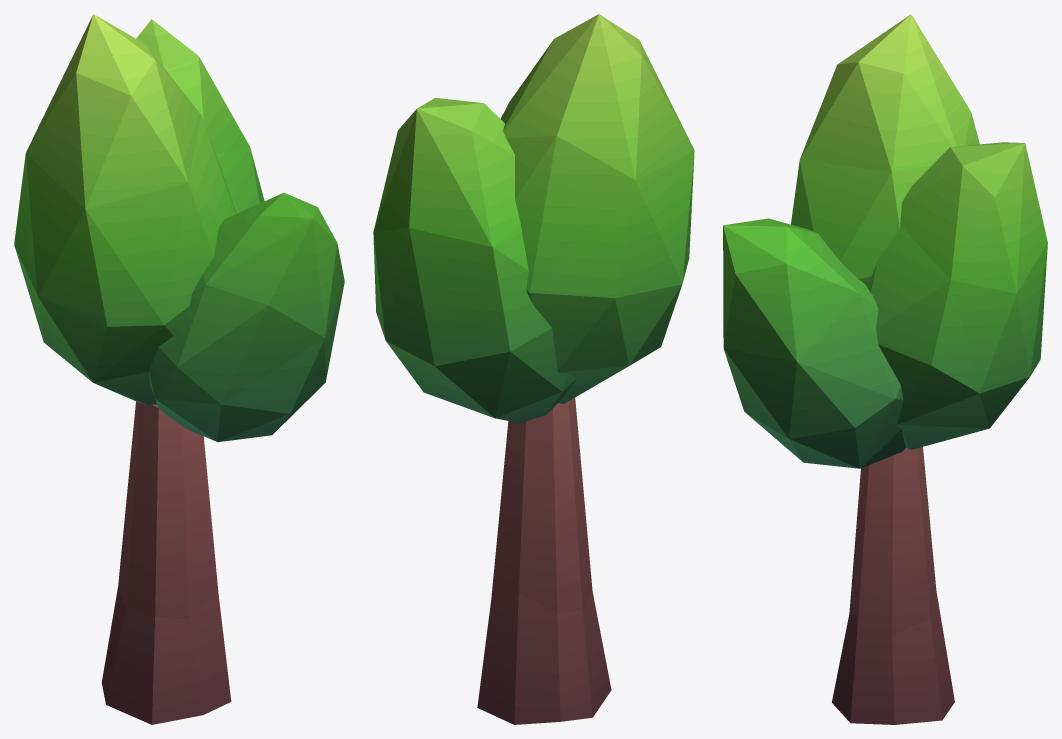
Rendered from Green_F.glb.
3 renders of one model, left to right at view 1: azimuth 30°, elevation 25°; view 2: azimuth 150°, elevation 25°; view 3: azimuth 270°, elevation 25°, orthographic. The views are drawn at different scales.
Parts seen in each view (by area): view 1: Green_Leaves1_K, Green_Leaves3_K, Green_Trunk_K, Green_Leaves2_K; view 2: Green_Leaves1_K, Green_Leaves2_K, Green_Trunk_K; view 3: Green_Leaves2_K, Green_Leaves3_K, Green_Leaves1_K, Green_Trunk_K.
Boxes of the visible parts, bbox=[...] form: Green_Leaves1_K: bbox=[14, 14, 236, 405]; Green_Leaves3_K: bbox=[149, 192, 344, 441]; Green_Trunk_K: bbox=[101, 401, 231, 724]; Green_Leaves2_K: bbox=[136, 19, 264, 213]; Green_Leaves1_K: bbox=[501, 14, 694, 403]; Green_Leaves2_K: bbox=[373, 97, 577, 423]; Green_Trunk_K: bbox=[477, 398, 611, 724]; Green_Leaves2_K: bbox=[865, 142, 1047, 449]; Green_Leaves3_K: bbox=[723, 218, 905, 468]; Green_Leaves1_K: bbox=[791, 14, 979, 283]; Green_Trunk_K: bbox=[832, 447, 954, 724].
Bounding box in the file's own units: 1.63 × 4.14 × 1.85.
Materials: 1 (1 with a texture image).
